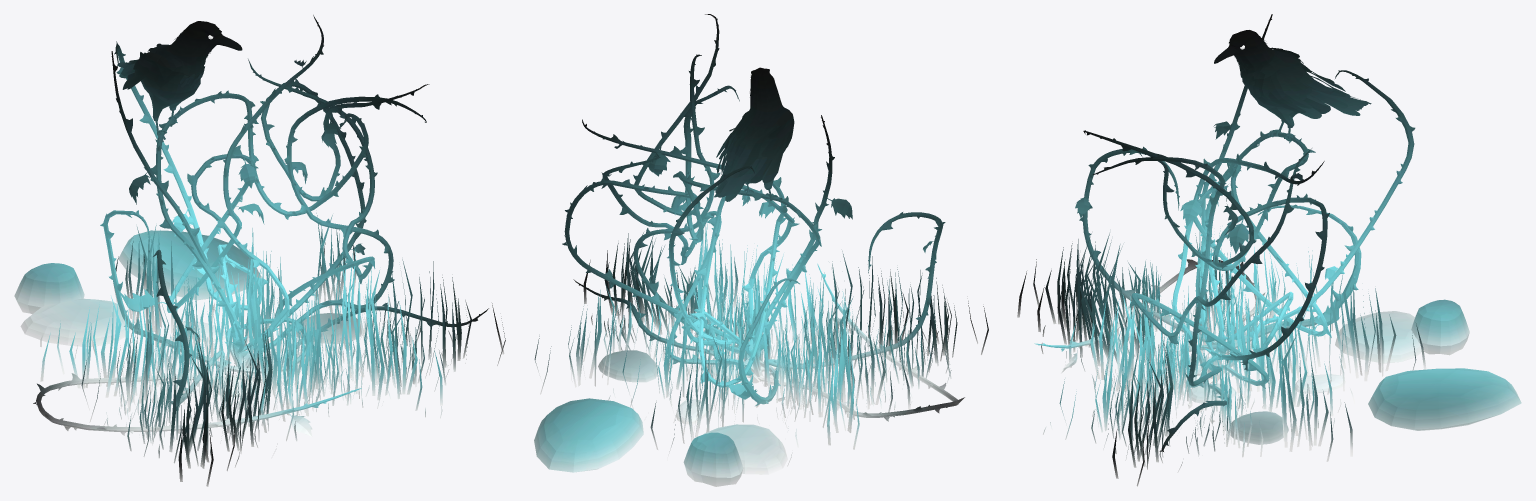
File: car2.glb
The picture shows the model from 3 angles, left to right: view 1: azimuth 30°, elevation 25°; view 2: azimuth 150°, elevation 25°; view 3: azimuth 270°, elevation 25°; orthographic projection. The views are drawn at different scales.
Visible parts, largest first — view 1: crow; view 2: crow; view 3: crow.
Boxes of the visible parts, x1,y1,x2,y2 form: crow: [14, 15, 505, 486]; crow: [534, 14, 988, 486]; crow: [1017, 14, 1521, 486].
Size of the model in its own units: 30.48 by 23.8 by 31.86.
Materials: 2 (1 with a texture image).
